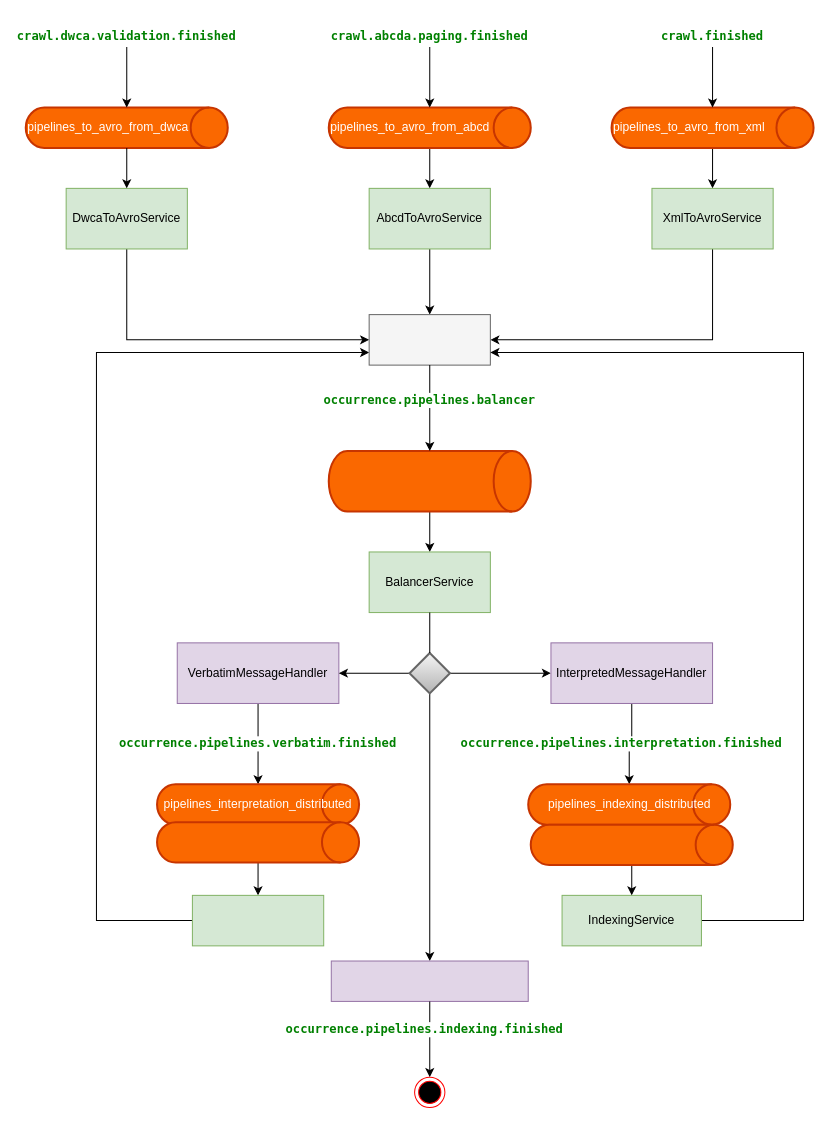
Some shapes in this 832 by 1125 pixel diagram are drawn without their labels. The centre of each missing label's shape, as x and y in pixels:
"InterpretationService" belongs at (x=257, y=920).
"PipelineCallback" belongs at (x=429, y=339).
"pipelines_balancer" belongs at (x=429, y=480).
"pipelines_indexing_standalone" belongs at (x=631, y=844).
"pipelines_interpretation_standalone" belongs at (x=258, y=842).
"PipelinesIndexedMessageHandler" belongs at (x=429, y=980).
